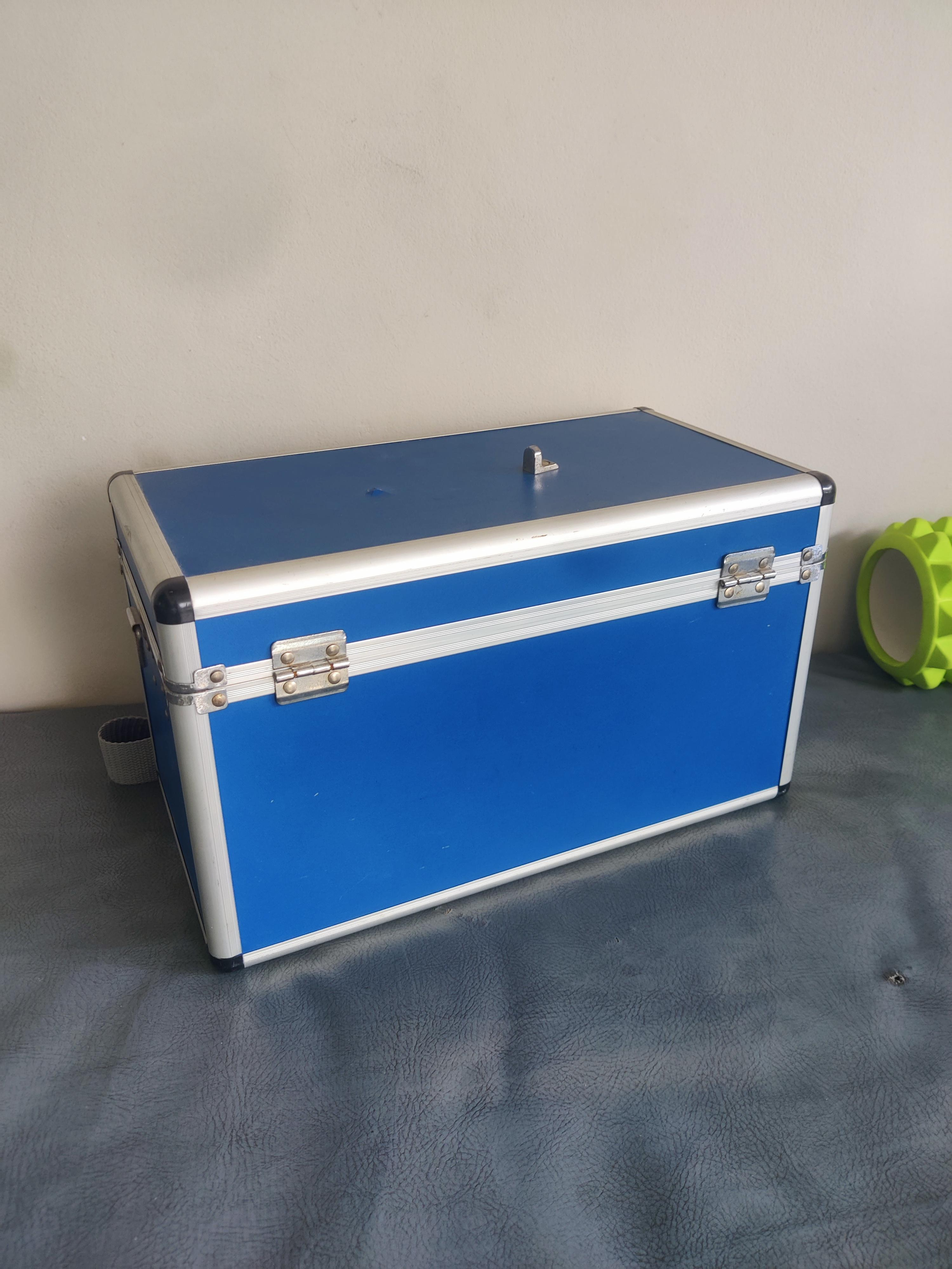FirstAidBox: (90, 398, 852, 994)
